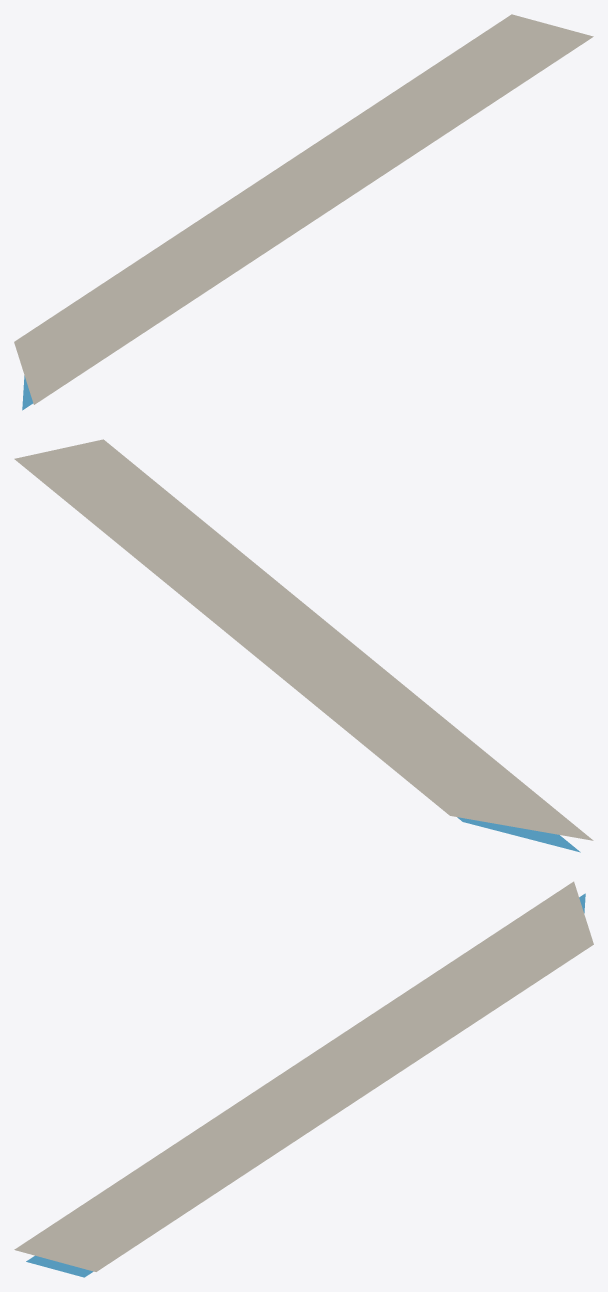
The picture shows the model from 3 angles, top to bottom: view 1: azimuth 90°, elevation 25°; view 2: azimuth 150°, elevation 25°; view 3: azimuth 270°, elevation 25°; orthographic projection. The views are drawn at different scales.
Visible parts, largest first — view 1: estructura_terreno; view 2: estructura_terreno, estructura_agua; view 3: estructura_terreno, estructura_agua.
Part boxes in pixels (x1,y1,x2,y2): estructura_terreno: (14,14,593,404); estructura_terreno: (14,439,593,840); estructura_agua: (457,817,580,852); estructura_terreno: (14,881,593,1271); estructura_agua: (26,893,585,1277).
Size of the model in its own units: 39.76 by 0.41 by 24.93.
